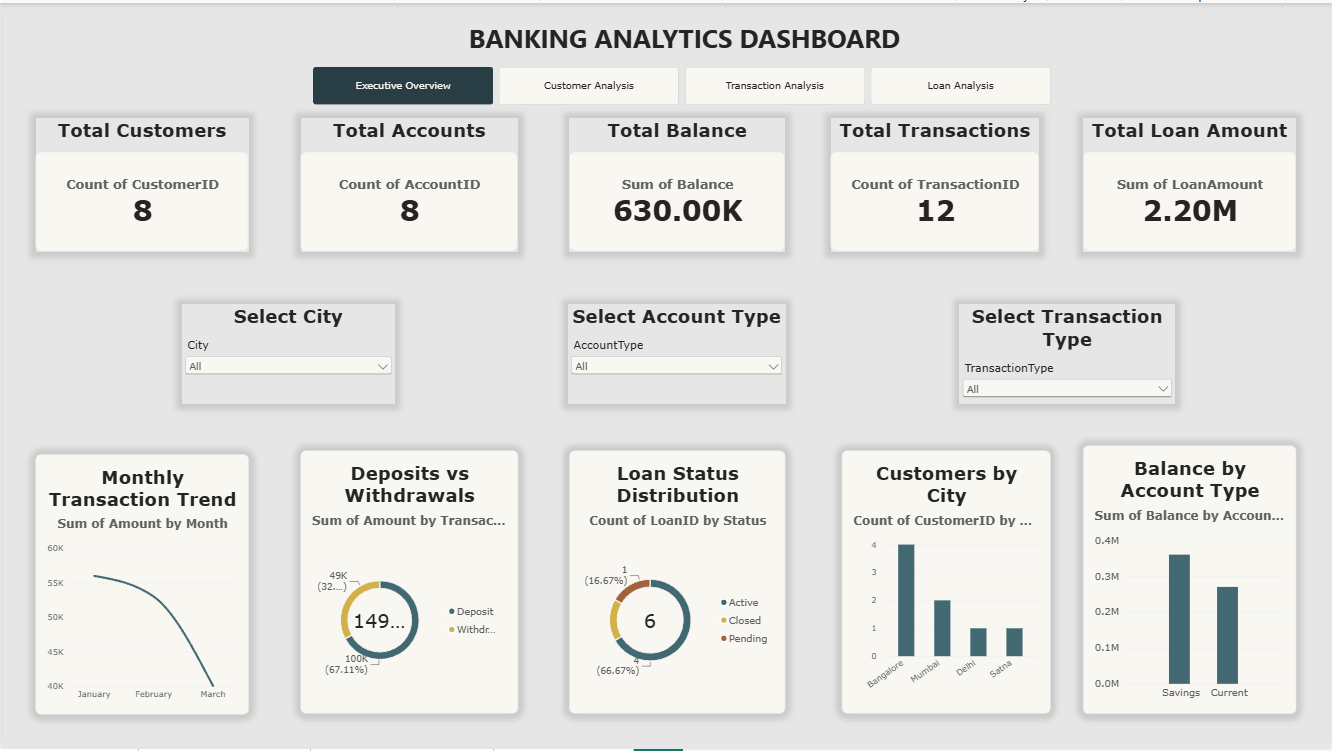

This screenshot's page, from the dashboard's own definition file:
{"tool":"powerbi","page":{"name":"Executive Overview","canvas":[1920,1080],"ordinal":0},"visuals":[{"type":"cardVisual","title":"Total Customers","fields":{"Data":["CountNonNull(bankmanagementsystem customers.CustomerID)"]},"box":[47.3,166.7,308.7,193.5],"z":0},{"type":"cardVisual","title":"Total Accounts","fields":{"Data":["CountNonNull(bankmanagementsystem accounts.AccountID)"]},"box":[430.2,166.7,314.9,193.5],"z":1000},{"type":"cardVisual","title":"Total Balance","fields":{"Data":["Sum(bankmanagementsystem accounts.Balance)"]},"box":[819.2,166.7,312.9,193.5],"z":2000},{"type":"cardVisual","title":"Total Transactions","fields":{"Data":["CountNonNull(bankmanagementsystem transactions.TransactionID)"]},"box":[1197.9,166.7,302.6,193.5],"z":3000},{"type":"cardVisual","title":"Total Loan Amount","fields":{"Data":["Sum(bankmanagementsystem loans.LoanAmount)"]},"box":[1564.3,166.7,308.7,193.5],"z":4000},{"type":"clusteredColumnChart","title":"Customers by City","fields":{"Y":["CountNonNull(bankmanagementsystem customers.CustomerID)"],"Category":["bankmanagementsystem customers.City"]},"box":[1214.4,648.4,302.6,380.8],"z":5000},{"type":"clusteredColumnChart","title":"Balance by Account Type","fields":{"Category":["bankmanagementsystem accounts.AccountType"],"Y":["Sum(bankmanagementsystem accounts.Balance)"]},"box":[1564.3,640.1,308.7,389],"z":6000},{"type":"lineChart","title":"Monthly Transaction Trend","fields":{"Category":["bankmanagementsystem transactions.TransactionDate.Variation.Date Hierarchy.Month"],"Y":["Sum(bankmanagementsystem transactions.Amount)"]},"box":[47.3,652.5,308.7,376.7],"z":7000},{"type":"donutChart","title":"Deposits vs Withdrawals","fields":{"Category":["bankmanagementsystem transactions.TransactionType"],"Y":["Sum(bankmanagementsystem transactions.Amount)"]},"box":[430.2,648.4,314.9,380.8],"z":8000},{"type":"donutChart","title":"Loan Status Distribution","fields":{"Category":["bankmanagementsystem loans.Status"],"Y":["CountNonNull(bankmanagementsystem loans.LoanID)"]},"box":[819.2,648.4,312.9,380.8],"z":9000},{"type":"slicer","title":"Select City","fields":{"Values":["bankmanagementsystem customers.City"]},"box":[259.3,436.4,308.7,144.1],"z":10000},{"type":"slicer","title":"Select Account Type","fields":{"Values":["bankmanagementsystem accounts.AccountType"]},"box":[817.2,436.4,314.9,144.1],"z":11000},{"type":"slicer","title":"Select Transaction Type","fields":{"Values":["bankmanagementsystem transactions.TransactionType"]},"box":[1385.3,436.4,312.9,144.1],"z":12000},{"type":"textbox","box":[588.7,24.7,796.6,92.6],"z":12001}]}

Visuals, with their boxes in screenshot pixels (x1, y1, x2, y2), scaled from the page's 1920x1080 canvas onto the 1332x751 screenshot:
"Total Customers" cardVisual: bbox=[33, 116, 247, 250]
"Total Accounts" cardVisual: bbox=[298, 116, 517, 250]
"Total Balance" cardVisual: bbox=[568, 116, 785, 250]
"Total Transactions" cardVisual: bbox=[831, 116, 1041, 250]
"Total Loan Amount" cardVisual: bbox=[1085, 116, 1299, 250]
"Customers by City" clusteredColumnChart: bbox=[842, 451, 1052, 716]
"Balance by Account Type" clusteredColumnChart: bbox=[1085, 445, 1299, 716]
"Monthly Transaction Trend" lineChart: bbox=[33, 454, 247, 716]
"Deposits vs Withdrawals" donutChart: bbox=[298, 451, 517, 716]
"Loan Status Distribution" donutChart: bbox=[568, 451, 785, 716]
"Select City" slicer: bbox=[180, 303, 394, 404]
"Select Account Type" slicer: bbox=[567, 303, 785, 404]
"Select Transaction Type" slicer: bbox=[961, 303, 1178, 404]
textbox: bbox=[408, 17, 961, 82]
